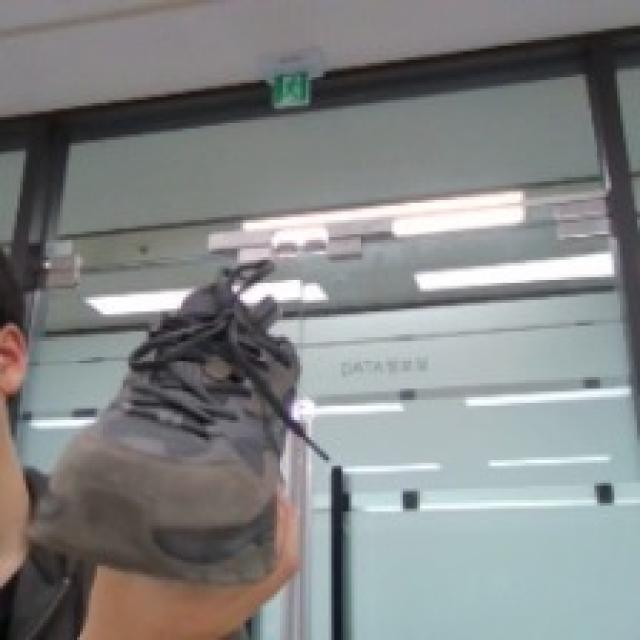shoes: (54, 282, 333, 608)
